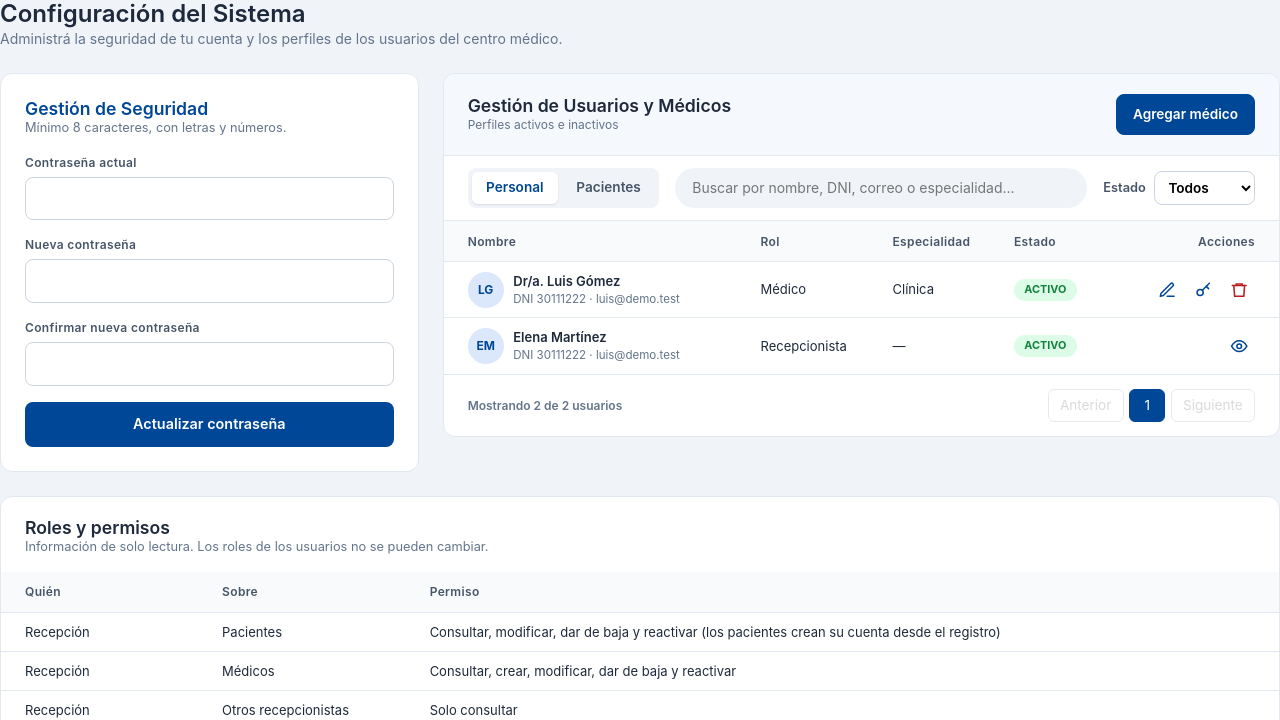
Test: Configuración del Sistema › edita un médico con PATCH y muestra los errores por campo del backend
Click the button named "Editar a Luis Gómez": (1167, 290) top-left (1151, 274), bottom-right (1183, 306)
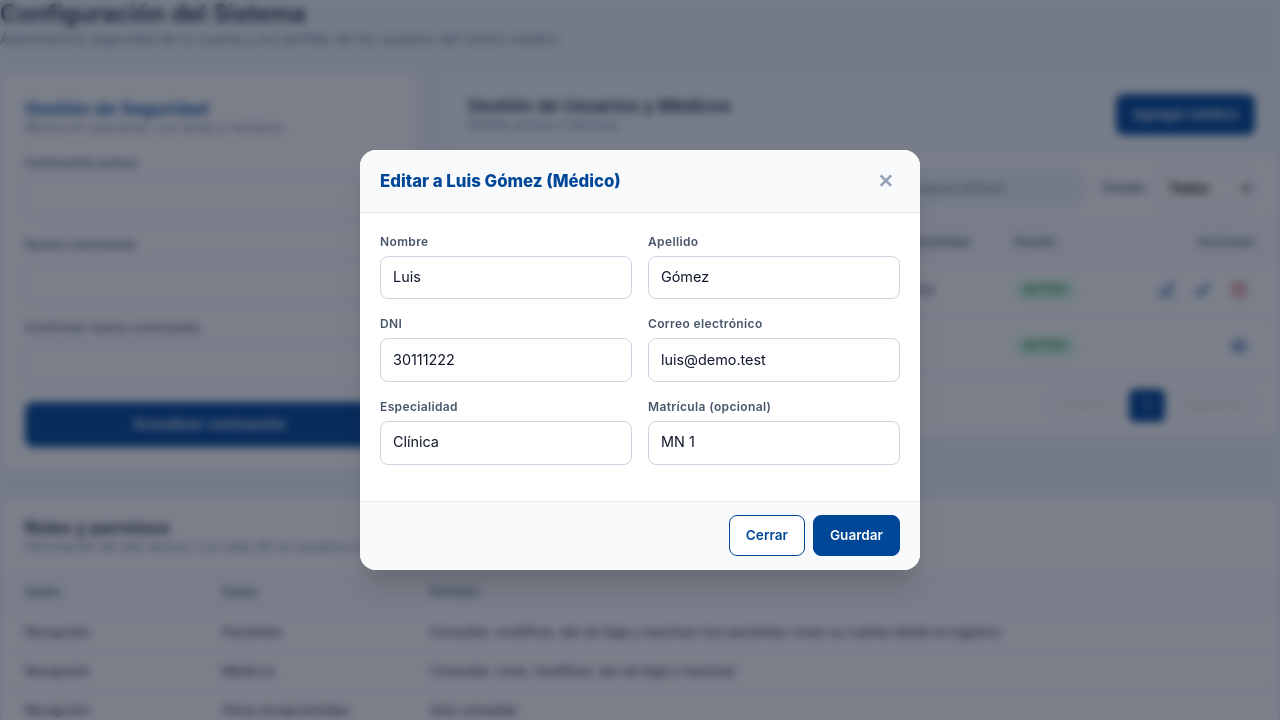
Replace the text in the field labelled "Especialidad" with "Cardiología": (506, 443) top-left (380, 421), bottom-right (632, 464)
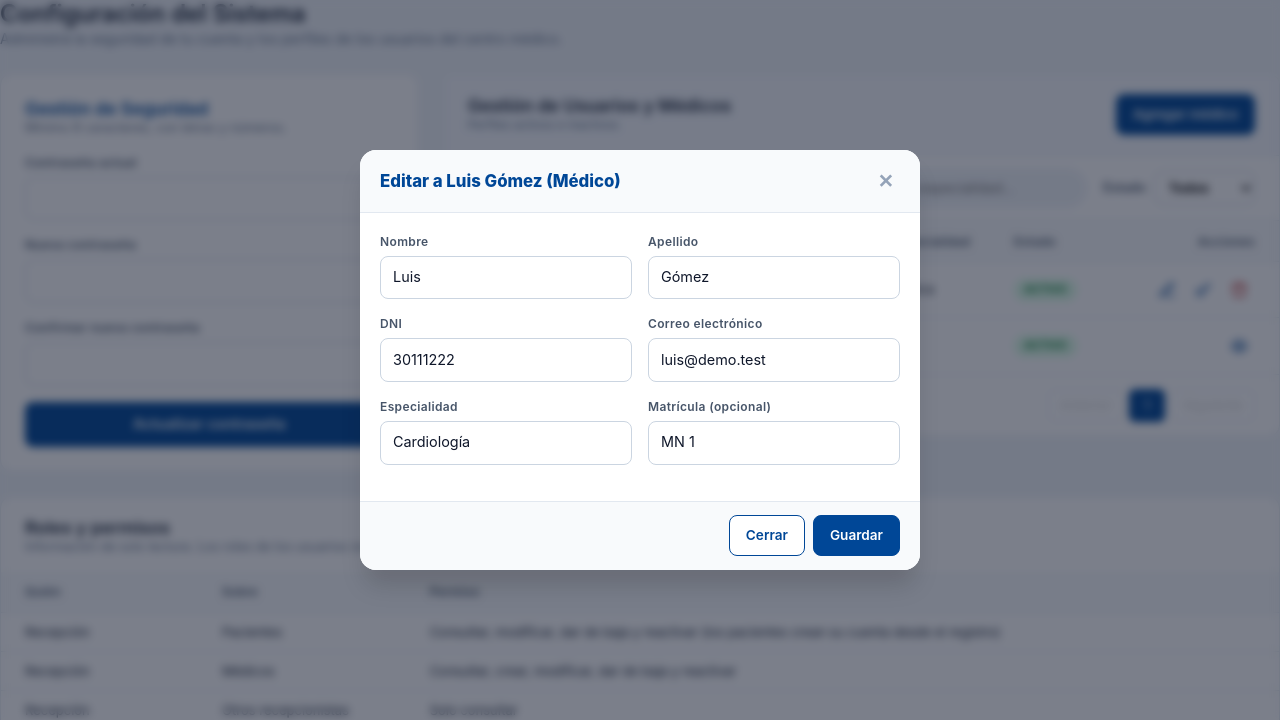
Click the button "Guardar": (856, 536) top-left (813, 515), bottom-right (900, 556)
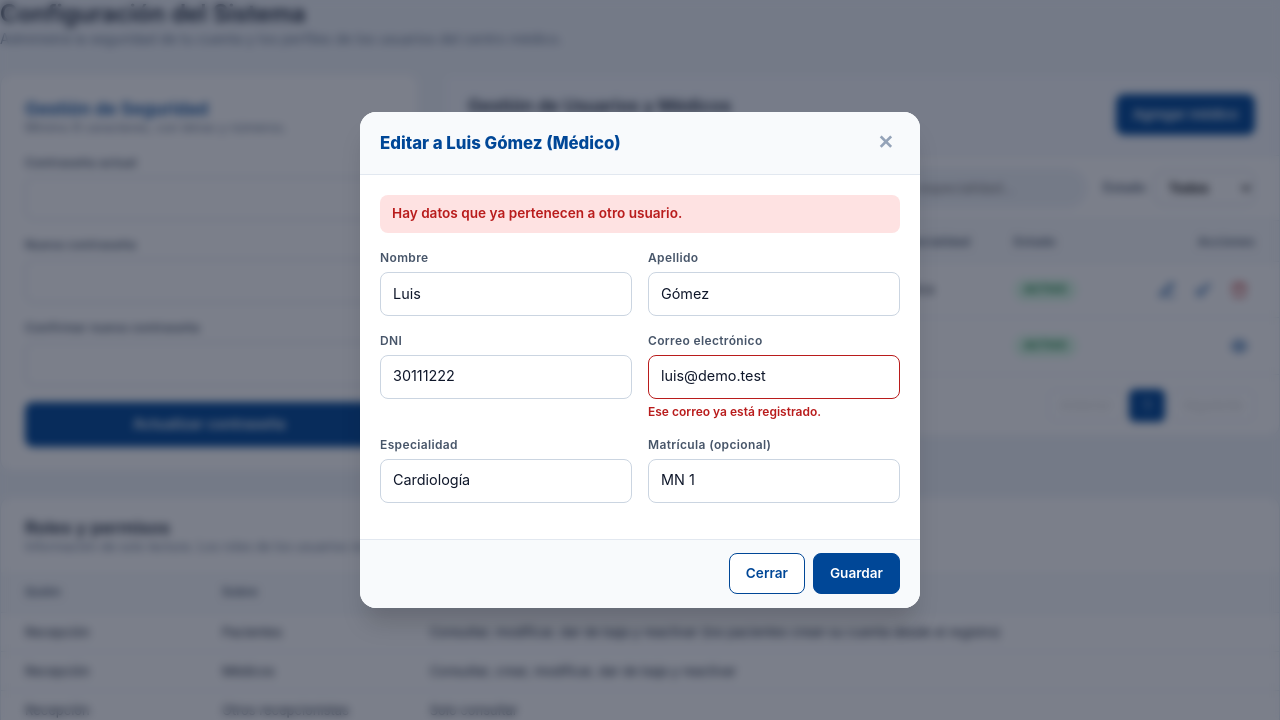
expect the text "Ese correo ya está registrado." is shown: met, box top-left (648, 404), bottom-right (821, 419)
Click the button "Guardar": (856, 574) top-left (813, 553), bottom-right (900, 594)
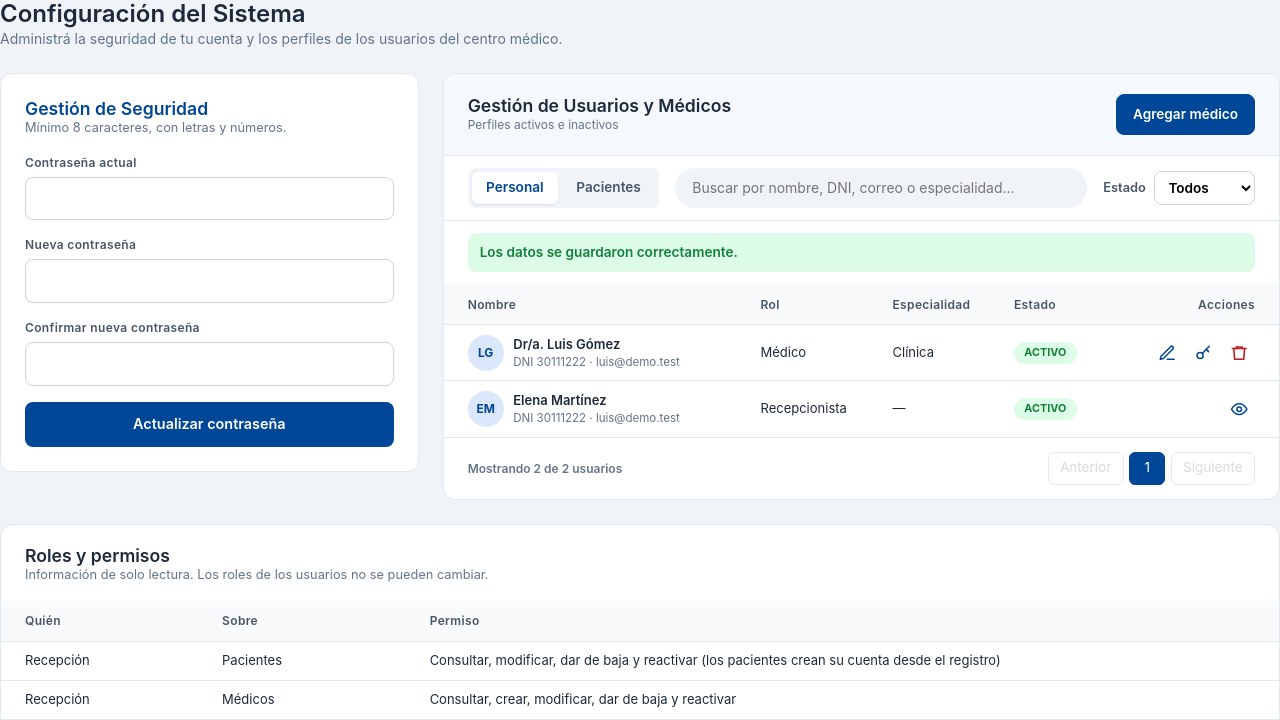
expect the text "Los datos se guardaron correctamente." is shown: met, box top-left (468, 234), bottom-right (1255, 272)
